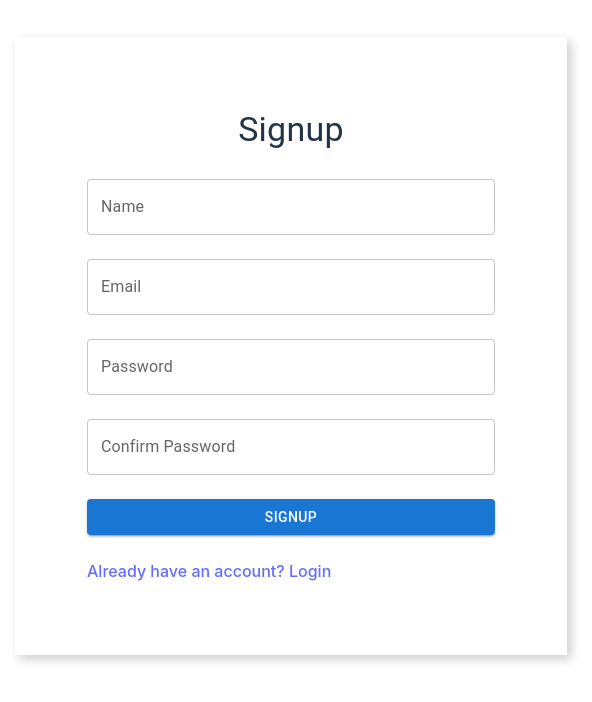
Signup Component › validates password format
In the password field labelled "Password": (291, 367) [87,339,495,395], type "weakpassword"
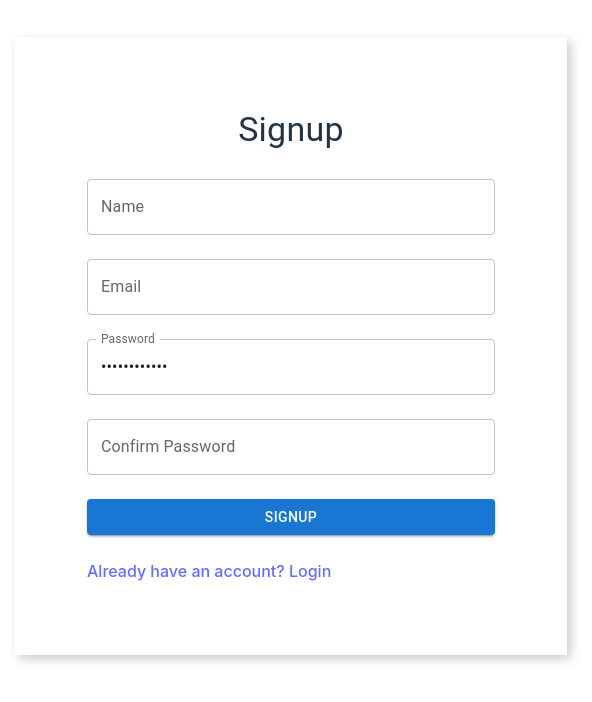
Leave the password field labelled "Password", box [87,339,495,395]
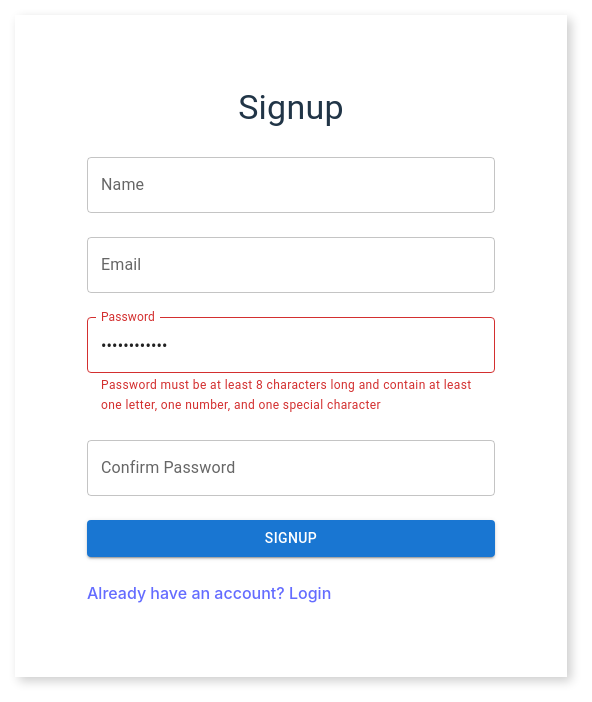
Now the text "Password must be at least 8 characters long and contain at least one letter, one number, and one special character" is shown, box [101,378,472,412]
